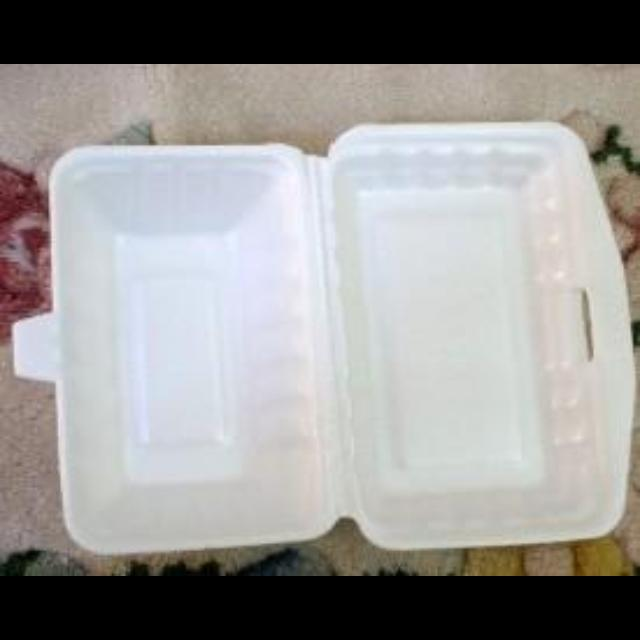plastic_box: (8, 118, 630, 546)
